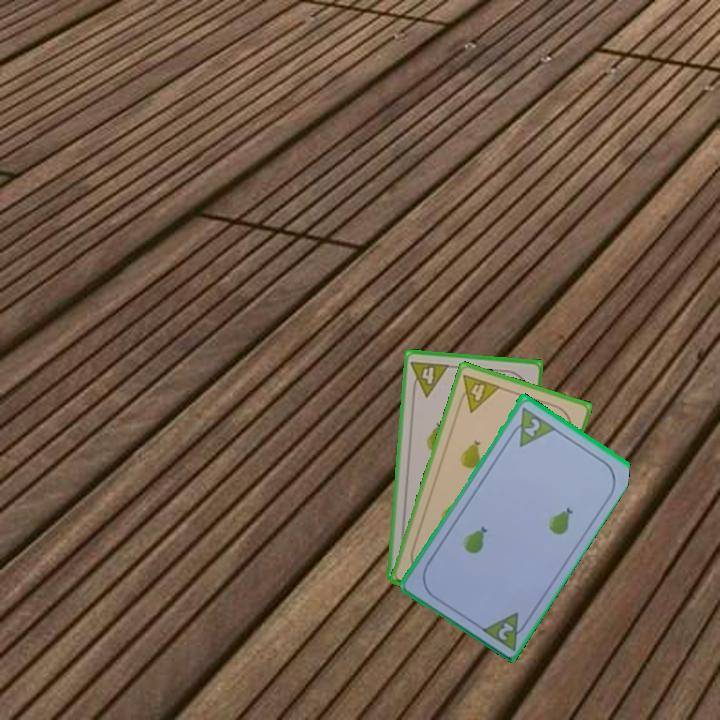2p: (520, 414, 543, 439), (494, 618, 516, 643)
4p: (453, 370, 503, 415), (407, 357, 452, 399)
